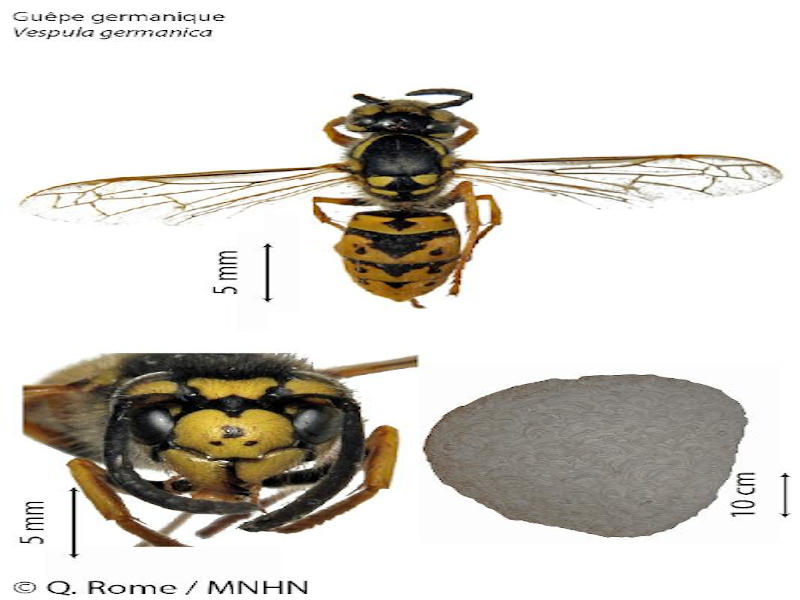chax: (11, 67, 794, 313), (39, 346, 405, 549)
